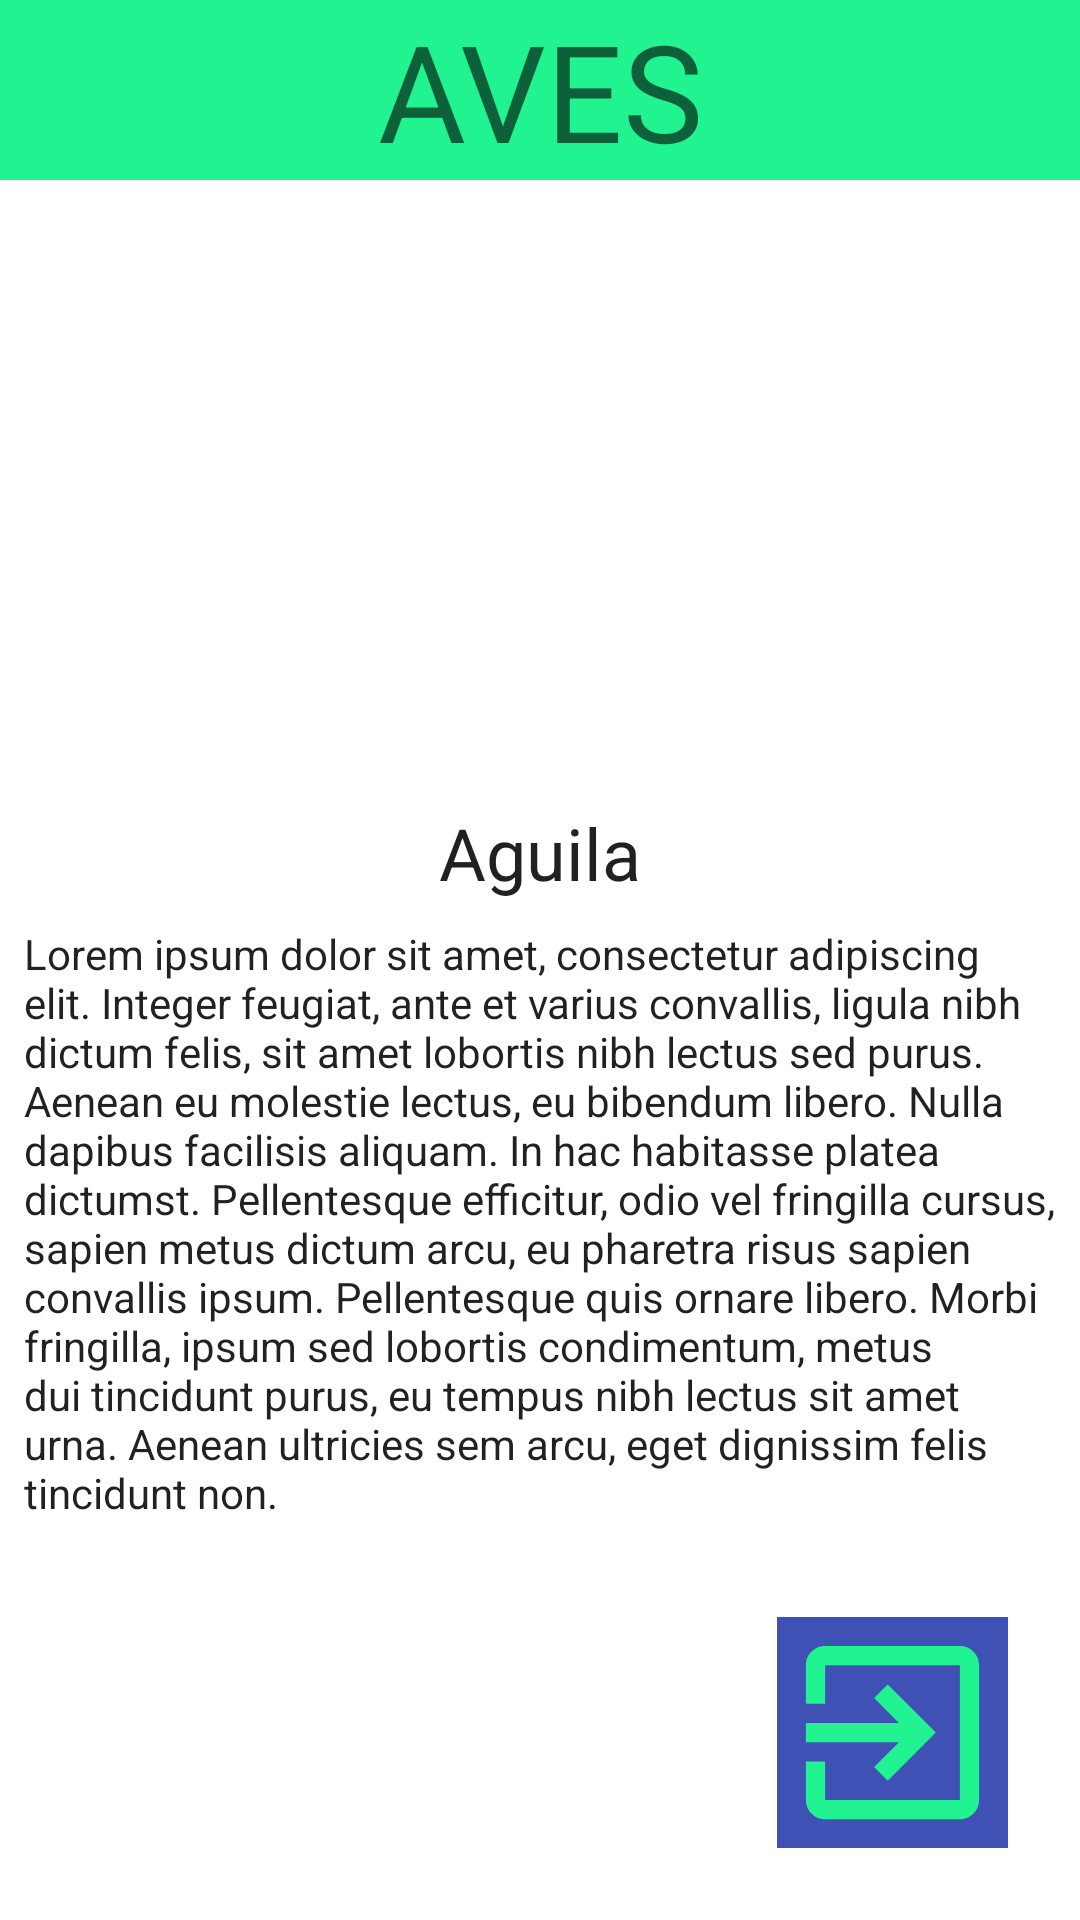

Screen size 1080 × 1920. Icon name, then its center in pixels as (x=x, y=y):
exit to app: (x=892, y=1732)
